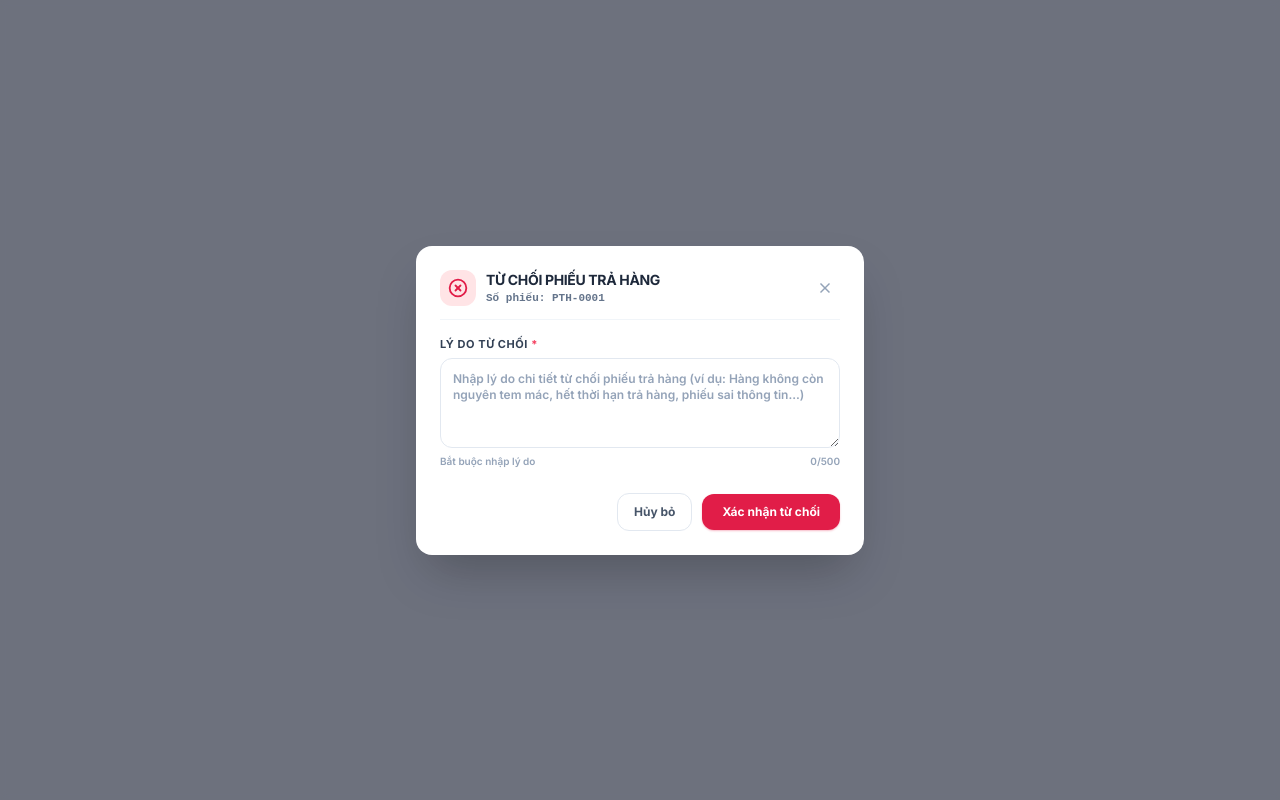
NCL-11-CN-002: ReturnTicketRejectModal Component › validates empty reason and character limits on rejection
Expected: the heading "Từ chối phiếu trả hàng" is shown, 486,270 -> 660,290
Expected: the text "Số phiếu: PTH-0001" is shown, 486,292 -> 605,304
Click the button "Xác nhận từ chối" at (771, 512), box 702,494 -> 840,530
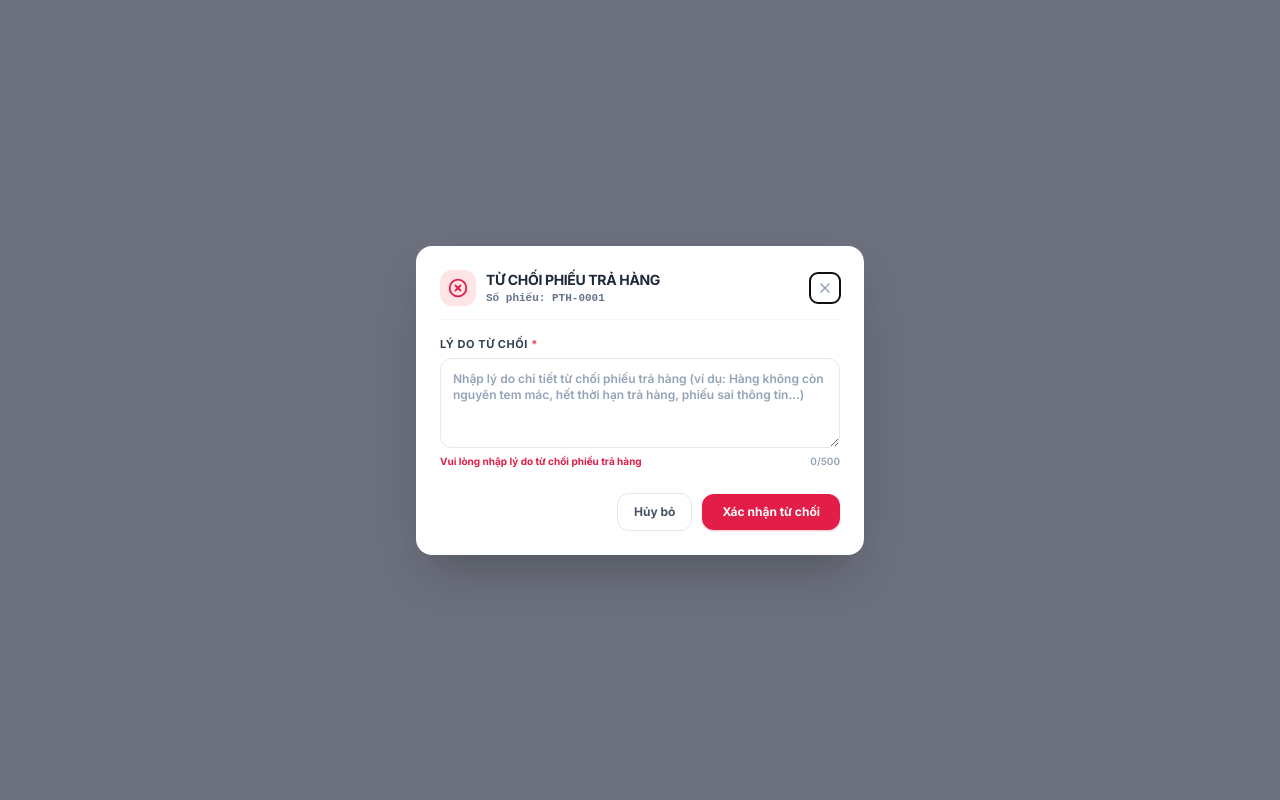
Now the text "Vui lòng nhập lý do từ chối phiếu trả hàng" is shown, box 440,454 -> 642,468
